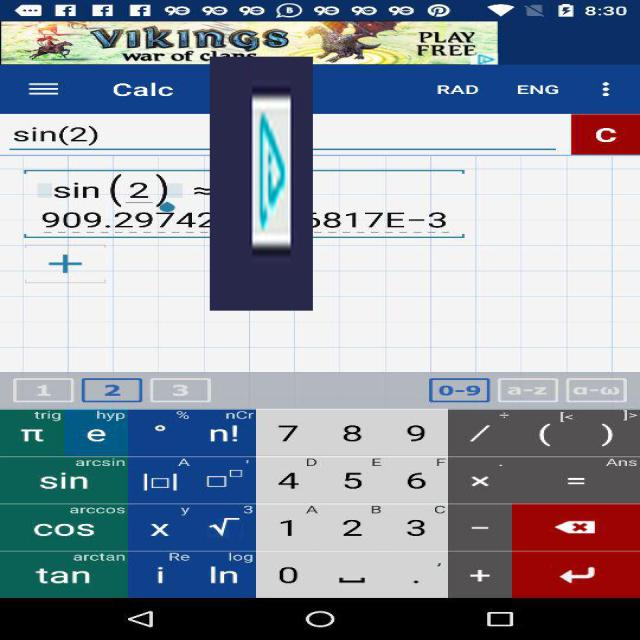sneaking: (210, 57, 313, 310)
